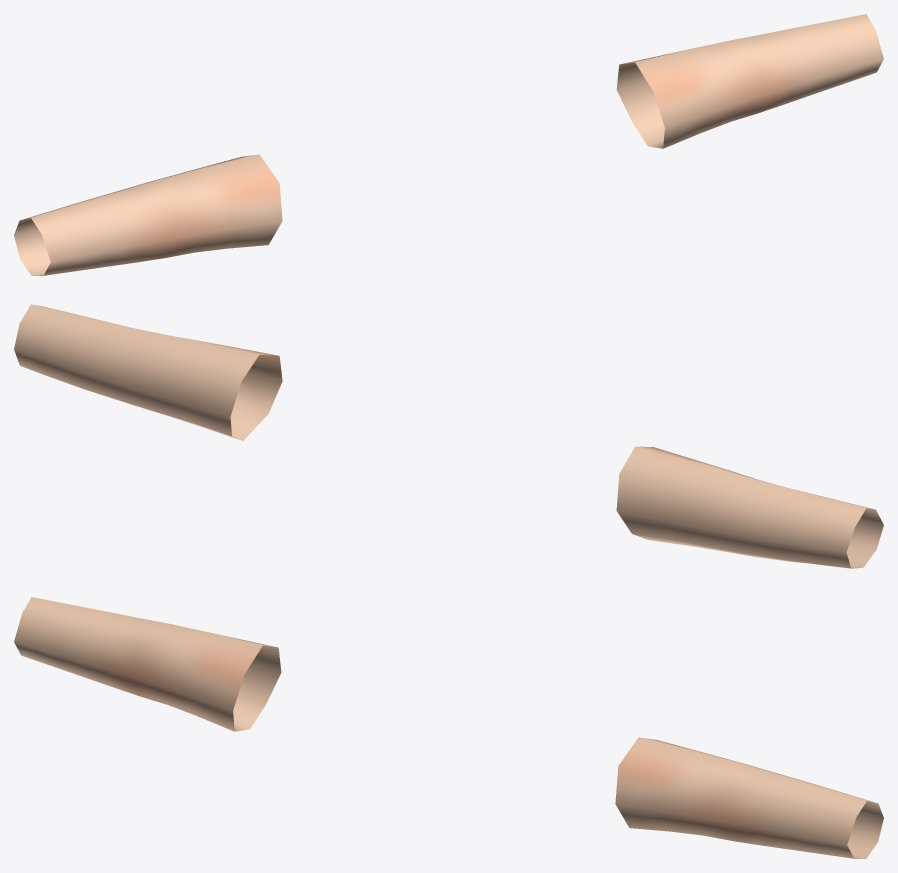
The model's file is Body_ArmA_2.fbx.
3 renders of one model, top to bottom at view 1: azimuth 30°, elevation 25°; view 2: azimuth 150°, elevation 25°; view 3: azimuth 330°, elevation 25°, orthographic.
Parts seen in each view (by area): view 1: Body_ArmA_2; view 2: Body_ArmA_2; view 3: Body_ArmA_2.
Part boxes in pixels (bbox=[...]): Body_ArmA_2: bbox=[14, 14, 883, 275]; Body_ArmA_2: bbox=[14, 304, 883, 568]; Body_ArmA_2: bbox=[14, 597, 883, 858].
Size of the model in its own units: 95.86 by 9.7 by 9.96.
